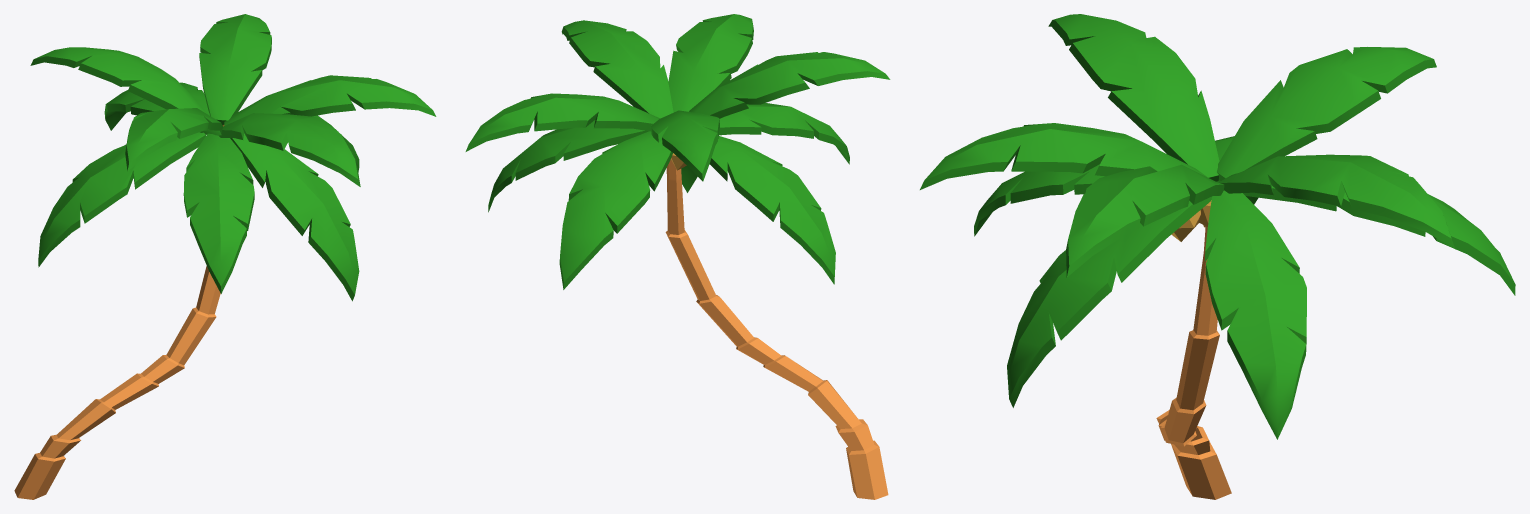
The model's file is PalmTree1.fbx.
3 views of the same model, side by side, from view 1: azimuth 30°, elevation 25°; view 2: azimuth 150°, elevation 25°; view 3: azimuth 270°, elevation 25° (orthographic). The views are drawn at different scales.
Visible parts, largest first — view 1: PalmTrees; view 2: PalmTrees; view 3: PalmTrees.
Part boxes in pixels (left/top/right/bottom): PalmTrees: left=14, top=14, right=436, bottom=499; PalmTrees: left=465, top=14, right=890, bottom=499; PalmTrees: left=920, top=14, right=1515, bottom=499.
Size of the model in its own units: 11.38 by 11.12 by 11.5.
